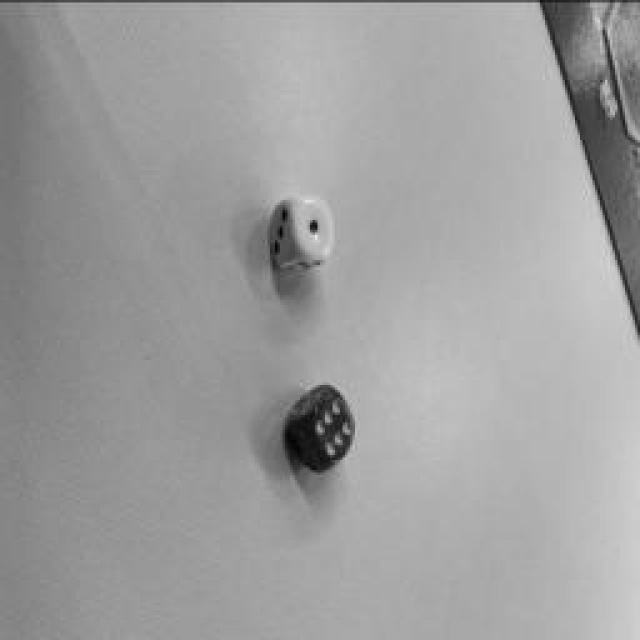dice_1: (292, 195, 332, 255)
dice_6: (310, 391, 355, 464)
